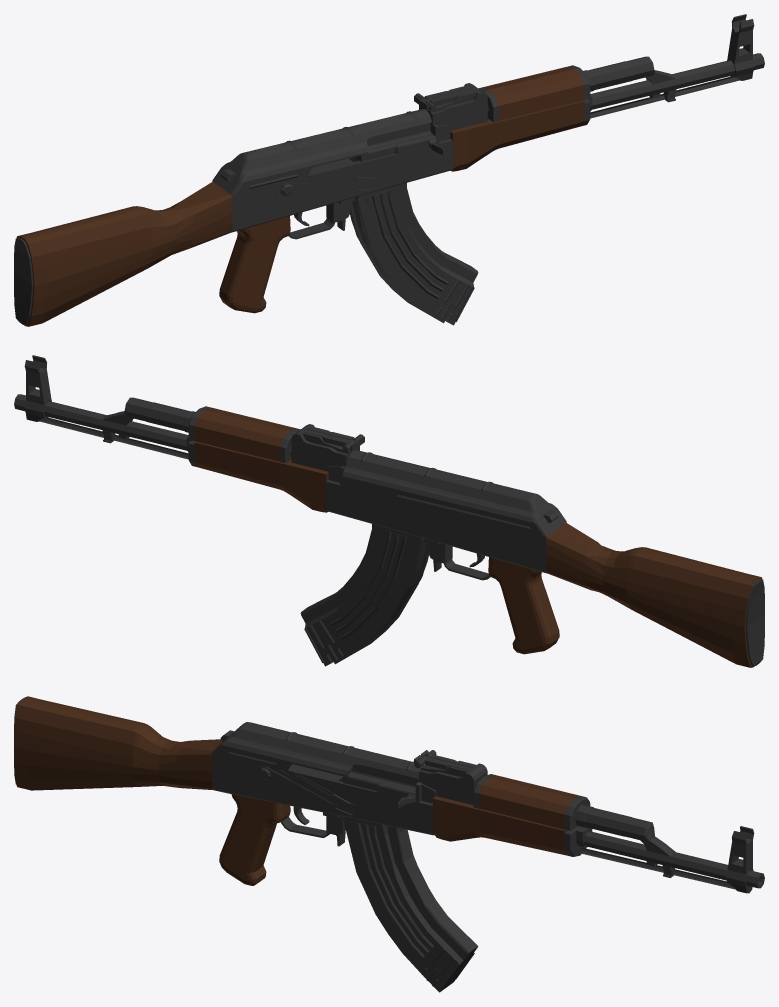
File: AKM.fbx
3 views of the same model, one above another, from view 1: azimuth 30°, elevation 25°; view 2: azimuth 150°, elevation 25°; view 3: azimuth 330°, elevation 25° (orthographic).
Visible parts, largest first — view 1: Base, Stock, Mag, Handguard, Dust Cover, Safety, Bolt; view 2: Base, Stock, Mag, Dust Cover, Handguard; view 3: Base, Stock, Mag, Handguard, Dust Cover, Safety, Bolt.
Part boxes in pixels (bbox=[...]): Base: bbox=[219, 14, 764, 313]; Stock: bbox=[14, 181, 232, 326]; Mag: bbox=[350, 160, 478, 325]; Handguard: bbox=[450, 66, 584, 171]; Dust Cover: bbox=[212, 109, 431, 195]; Safety: bbox=[276, 174, 376, 200]; Bolt: bbox=[355, 122, 443, 161]; Base: bbox=[14, 355, 559, 654]; Stock: bbox=[546, 523, 764, 667]; Mag: bbox=[300, 524, 428, 666]; Dust Cover: bbox=[342, 450, 566, 536]; Handguard: bbox=[194, 407, 328, 512]; Base: bbox=[212, 730, 764, 893]; Stock: bbox=[14, 696, 222, 790]; Mag: bbox=[343, 816, 478, 992]; Handguard: bbox=[432, 775, 580, 855]; Dust Cover: bbox=[212, 722, 424, 778]; Safety: bbox=[255, 765, 355, 815]; Bolt: bbox=[343, 765, 418, 808].
Bounding box in the file's own units: 156 × 46.75 × 12.26.
